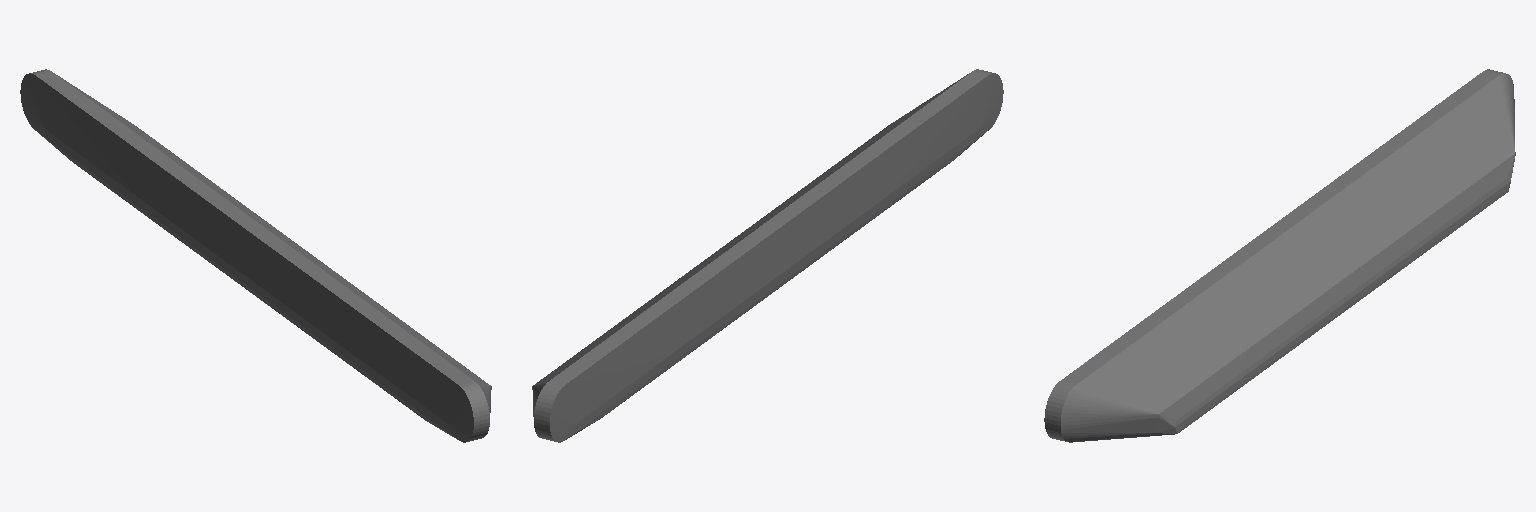
URDF robot description (fanuc_m710ic45m_WithHand):
<?xml version="1.0"?>

<robot name="fanuc_m710ic45m_WithHand" xmlns:xacro="http://wiki.ros.org/xacro">
	<xacro:include filename="fanuc_m710ic50_WithHand.urdf"/>
	<link name="root" />
	
	<link name="rail_link">
        <visual>
            <geometry>
                <mesh filename="Rail\visual\Rail.stl" />
            </geometry>
            <material name="">
                <color rgba="0.5 0.5 0.5 1.0" />
            </material>
        </visual>
        <collision>
            <geometry>
                <mesh filename="Rail\collision\Rail.stl" />
            </geometry>
        </collision>
    </link>
	
	<joint name="root_to_rail" type="fixed">
		<origin xyz="0 0 0" rpy="0 0 0" />
		<parent link="root" />
		<child link="rail_link" />
	</joint>

	<xacro:fanuc_m710ic50_WithHand prefix="Left" handColor="0 0 1 1"/>
	<xacro:fanuc_m710ic50_WithHand prefix="Right" handColor="1 0 0 1"/>
	
</robot>

--- Render facts (derived) ---
3 views of the same robot in one strip: view 1: azimuth 30°, elevation 25°; view 2: azimuth 150°, elevation 25°; view 3: azimuth 330°, elevation 25° (orthographic).
Robot: fanuc_m710ic45m_WithHand — 2 links, 1 joints (1 fixed); root link root; default pose: every joint at zero.
Visible links, largest first — view 1: rail_link; view 2: rail_link; view 3: rail_link.
Link boxes in pixels (x1,y1,x2,y2): rail_link: (20, 69, 491, 442); rail_link: (532, 69, 1003, 442); rail_link: (1044, 69, 1515, 442).
Bounding box of the posed robot: 948 × 10171 × 852 m (x, y, z).
1 mesh visuals loaded from 1 distinct referenced files (1 binary STL).
